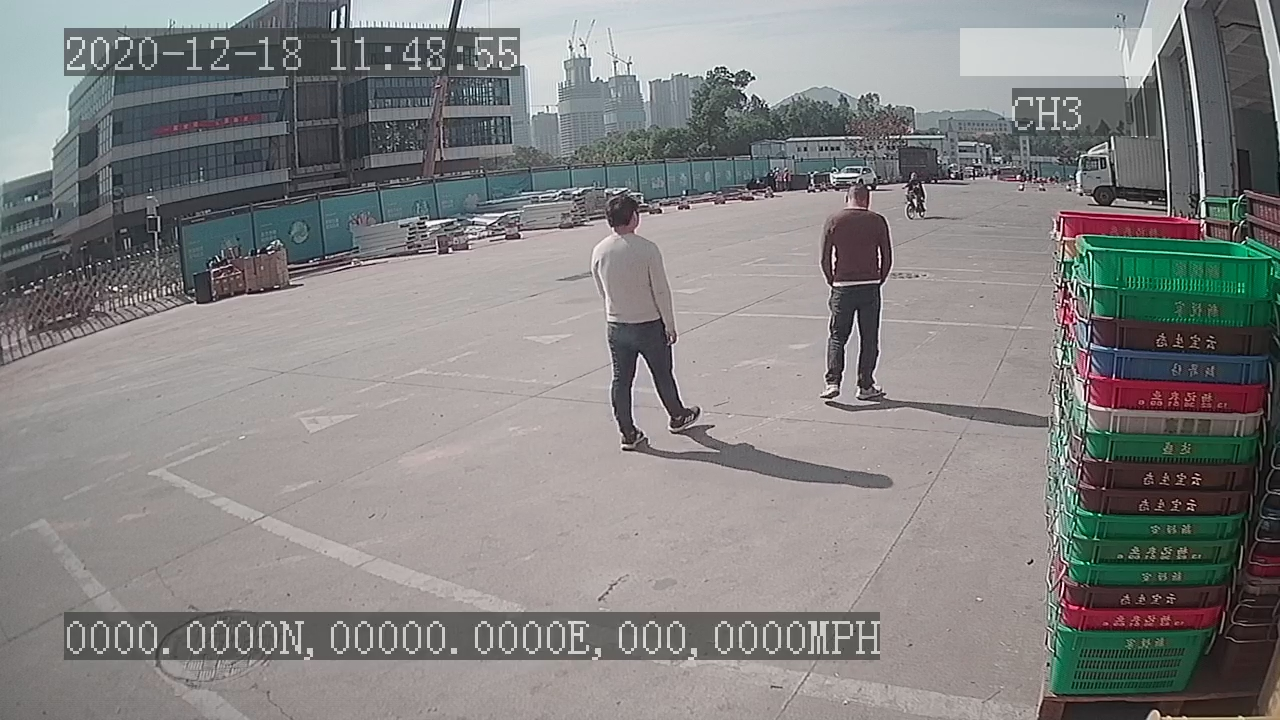person: (583, 190, 704, 451), (815, 179, 890, 403)
